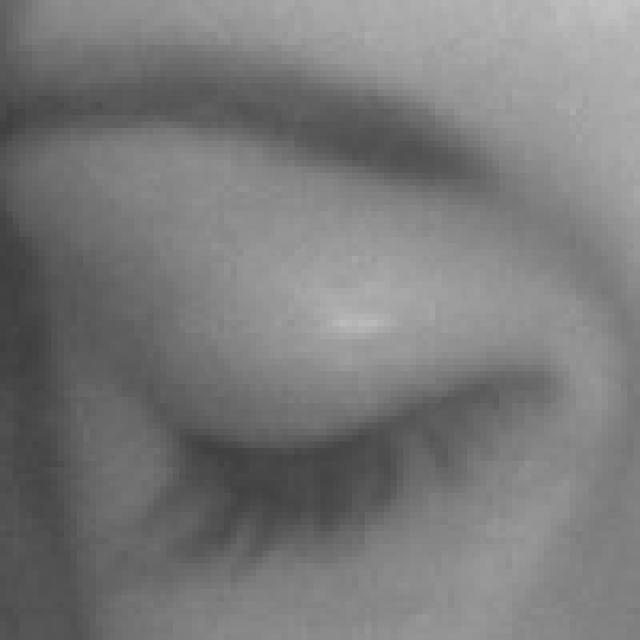Eyeclosed: (134, 224, 564, 640)
